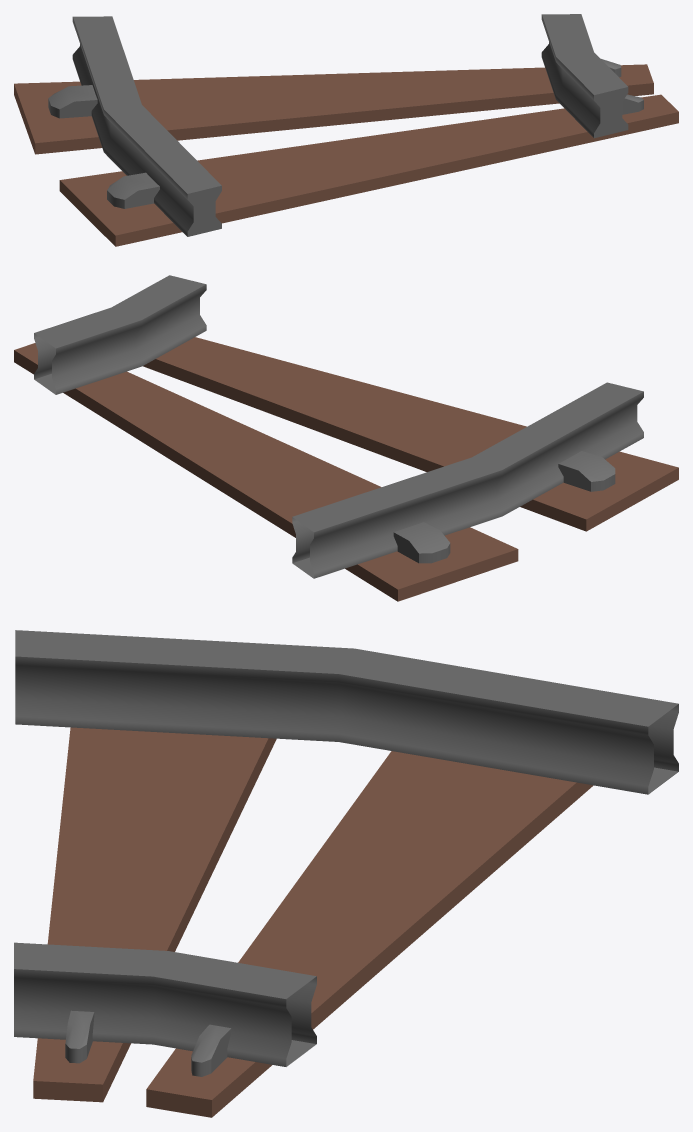
The model's file is Trilho_emenda_curva.fbx.
3 renders of one model, top to bottom at view 1: azimuth 30°, elevation 25°; view 2: azimuth 150°, elevation 25°; view 3: azimuth 270°, elevation 25°, orthographic. The views are drawn at different scales.
Parts seen in each view (by area): view 1: Trilho_emenda_curva; view 2: Trilho_emenda_curva; view 3: Trilho_emenda_curva.
Boxes of the visible parts, x1=… form: Trilho_emenda_curva: x1=14, y1=14, x2=678, y2=246; Trilho_emenda_curva: x1=14, y1=275, x2=678, y2=601; Trilho_emenda_curva: x1=14, y1=630, x2=678, y2=1117.
Bounding box in the file's own units: 212 × 19.27 × 135.
